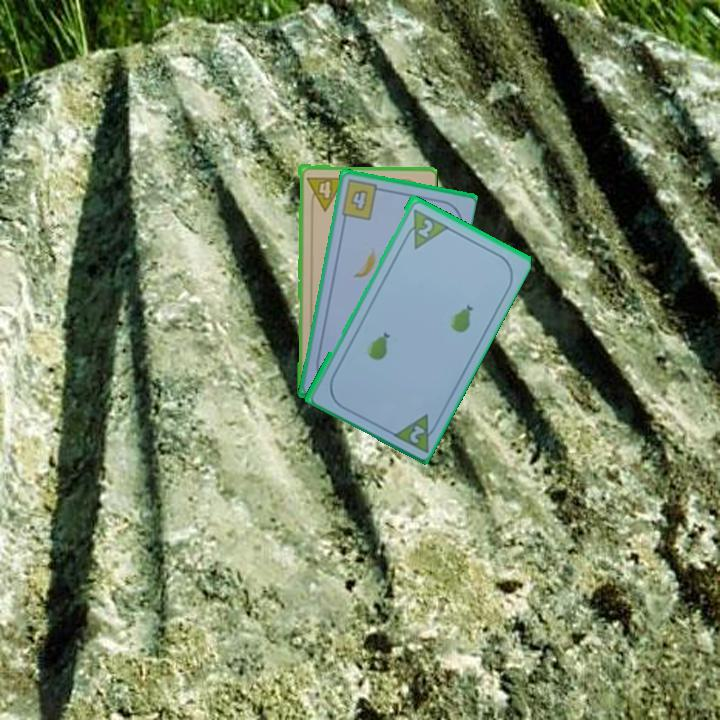2p: (414, 215, 436, 240), (406, 421, 427, 446)
4b: (337, 176, 386, 223)
4p: (302, 173, 346, 212)
